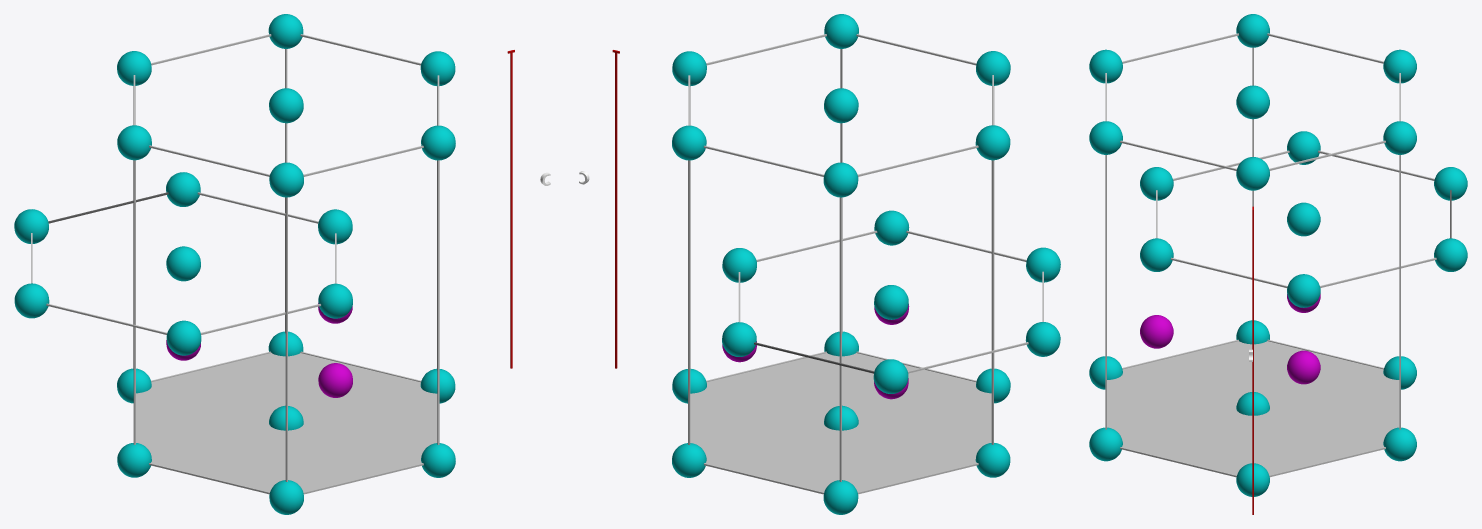
Rendered from yodurocadmiovolume_centrado_celda.glb.
The picture shows the model from 3 angles, left to right: view 1: azimuth 30°, elevation 25°; view 2: azimuth 150°, elevation 25°; view 3: azimuth 270°, elevation 25°; orthographic projection. The views are drawn at different scales.
Visible parts, largest first — view 1: polySurface7; view 2: polySurface7; view 3: polySurface7.
Boxes of the visible parts, left/top/right/bottom form: polySurface7: left=14, top=14, right=550, bottom=514; polySurface7: left=579, top=14, right=1060, bottom=514; polySurface7: left=1089, top=14, right=1467, bottom=514.
Bounding box in the file's own units: 3.33 × 2.2 × 2.24.
